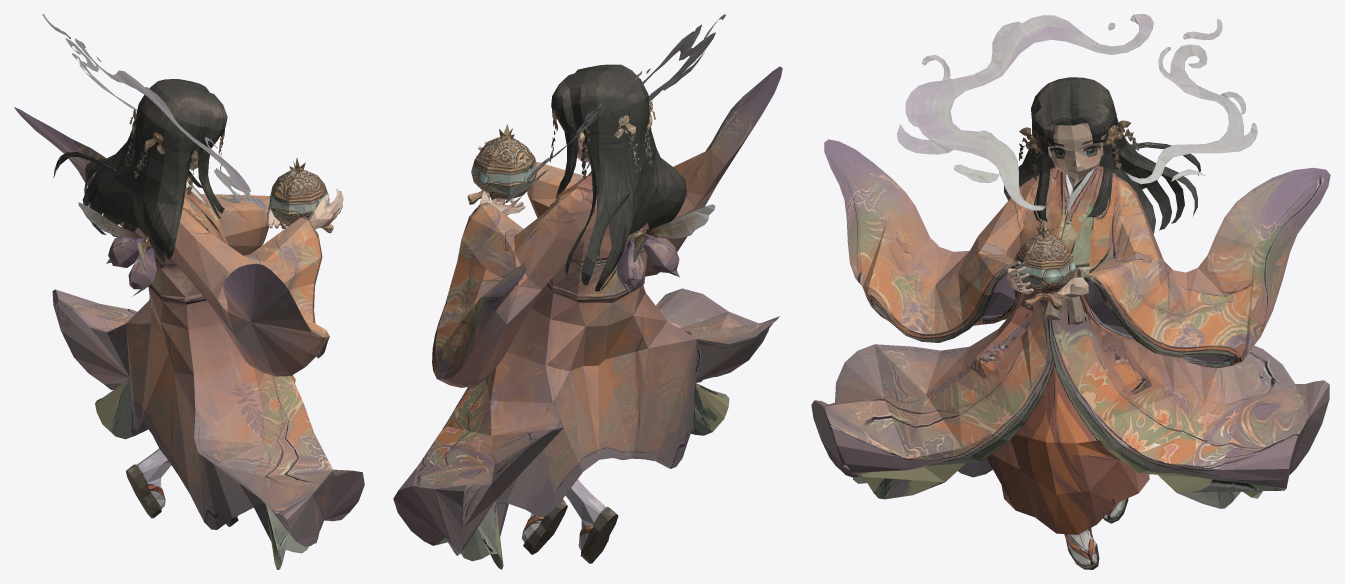
The model's file is utsusemi.glb.
3 views of the same model, side by side, from view 1: azimuth 30°, elevation 25°; view 2: azimuth 150°, elevation 25°; view 3: azimuth 270°, elevation 25° (orthographic). The views are drawn at different scales.
Visible parts, largest first — view 1: tripo_node_6afc0419-0512-490b-a5cb-b9c13164ade7; view 2: tripo_node_6afc0419-0512-490b-a5cb-b9c13164ade7; view 3: tripo_node_6afc0419-0512-490b-a5cb-b9c13164ade7.
Boxes of the visible parts, x1,y1,x2,y2 form: tripo_node_6afc0419-0512-490b-a5cb-b9c13164ade7: [14, 14, 364, 569]; tripo_node_6afc0419-0512-490b-a5cb-b9c13164ade7: [393, 14, 782, 569]; tripo_node_6afc0419-0512-490b-a5cb-b9c13164ade7: [811, 14, 1330, 569].
Size of the model in its own units: 0.4434 by 0.998 by 0.9472.
Materials: 1 (1 with a texture image).
